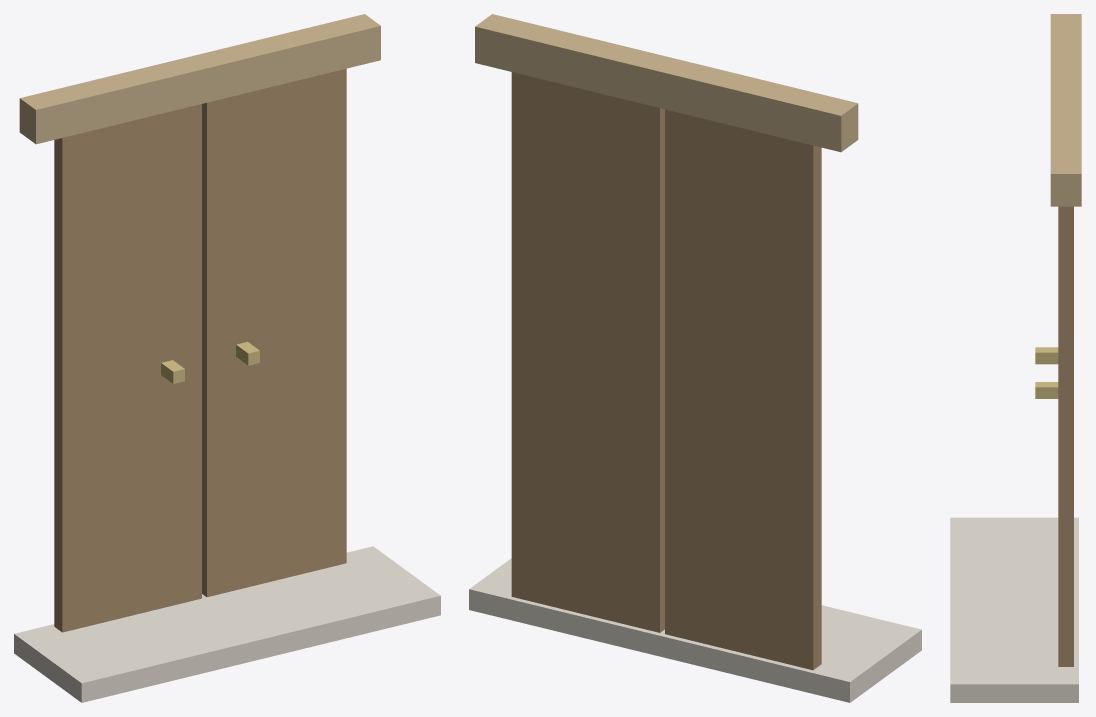
File: mdl_architecture_door_colonial_001.glb
The picture shows the model from 3 angles, left to right: view 1: azimuth 30°, elevation 25°; view 2: azimuth 150°, elevation 25°; view 3: azimuth 270°, elevation 25°; orthographic projection. The views are drawn at different scales.
Visible parts, largest first — view 1: m_madera, m_caliza, m_madera_clara, m_oro_viejo; view 2: m_madera, m_madera_clara, m_caliza; view 3: m_caliza, m_madera, m_madera_clara, m_oro_viejo.
Part boxes in pixels (x1,y1,x2,y2): m_madera: (54,68,346,632); m_caliza: (14,546,440,702); m_madera_clara: (19,14,380,144); m_oro_viejo: (161,342,259,383); m_madera: (511,72,821,670); m_madera_clara: (475,14,858,152); m_caliza: (469,558,921,702); m_caliza: (950,517,1078,702); m_madera: (1058,206,1073,666); m_madera_clara: (1050,14,1081,206); m_oro_viejo: (1035,347,1058,398).
Bounding box in the file's own units: 1.53 × 2.25 × 0.51.
